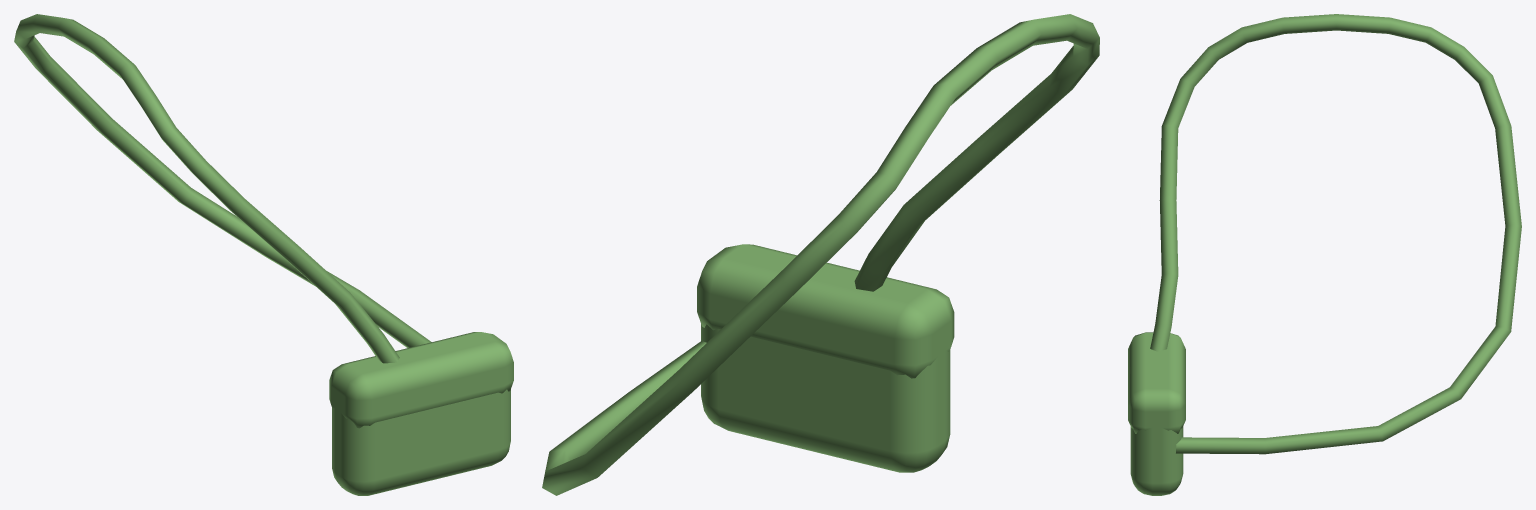
The model's file is hand_knit_pouch.glb.
3 views of the same model, side by side, from view 1: azimuth 30°, elevation 25°; view 2: azimuth 150°, elevation 25°; view 3: azimuth 270°, elevation 25° (orthographic). The views are drawn at different scales.
Visible parts, largest first — view 1: hand_knit_pouch_Body; view 2: hand_knit_pouch_Body; view 3: hand_knit_pouch_Body.
Boxes of the visible parts, <box> form: hand_knit_pouch_Body: <box>14,14,513,495</box>; hand_knit_pouch_Body: <box>542,14,1099,495</box>; hand_knit_pouch_Body: <box>1128,14,1521,495</box>.
Bounding box in the file's own units: 0.3581 × 0.4541 × 0.4496.
